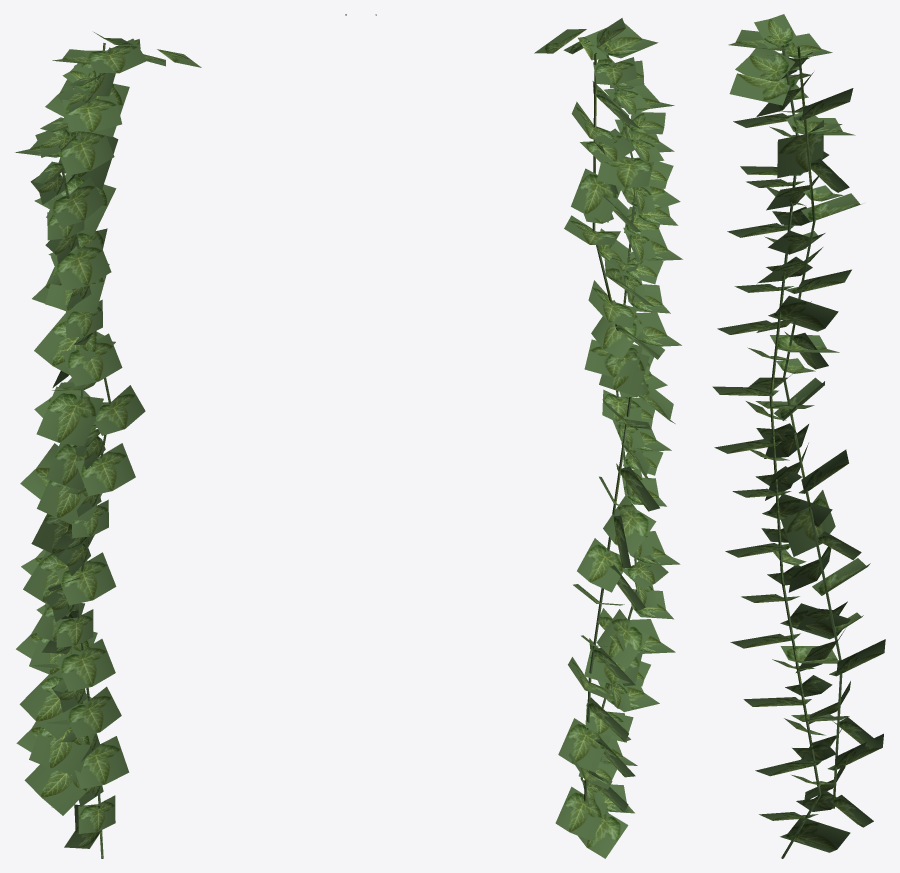
File: Long_Branch2.FBX
3 views of the same model, side by side, from view 1: azimuth 30°, elevation 25°; view 2: azimuth 150°, elevation 25°; view 3: azimuth 270°, elevation 25° (orthographic). The views are drawn at different scales.
Visible parts, largest first — view 1: Object074; view 2: Object074; view 3: Object074.
Boxes of the visible parts, x1=… form: Object074: x1=15, y1=14, x2=346, y2=858; Object074: x1=375, y1=14, x2=682, y2=858; Object074: x1=712, y1=14, x2=885, y2=858.
Bounding box in the file's own units: 14.4 × 37.02 × 6.92.
